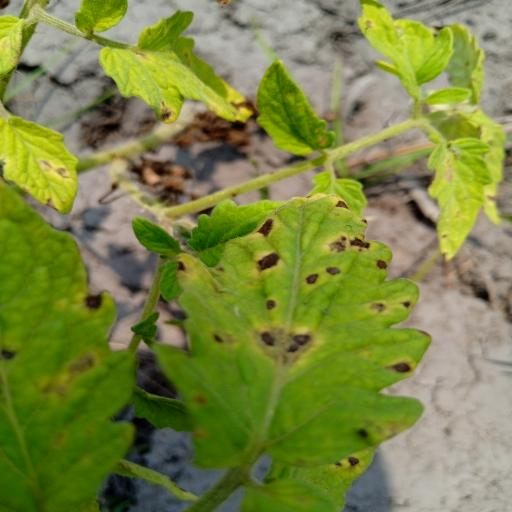Tomato_Brown_Spots: (142, 190, 440, 482), (0, 167, 143, 512), (91, 0, 257, 126), (357, 1, 456, 95), (255, 59, 341, 157), (430, 137, 492, 268)
